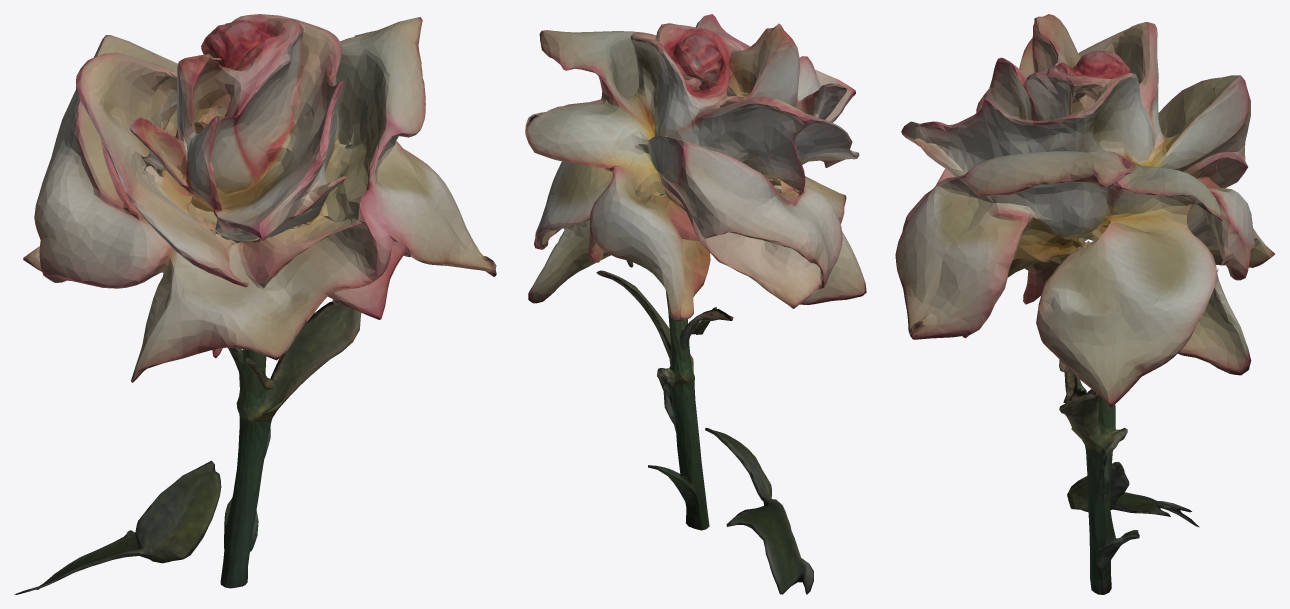
The picture shows the model from 3 angles, left to right: view 1: azimuth 30°, elevation 25°; view 2: azimuth 150°, elevation 25°; view 3: azimuth 270°, elevation 25°; orthographic projection. The views are drawn at different scales.
Visible parts, largest first — view 1: world; view 2: world; view 3: world.
Boxes of the visible parts, left/top/right/bottom form: world: left=14, top=14, right=496, bottom=594; world: left=525, top=14, right=866, bottom=594; world: left=895, top=14, right=1274, bottom=594.
Bounding box in the file's own units: 0.604 × 0.9239 × 0.5781.
1 material, 1 textured.
